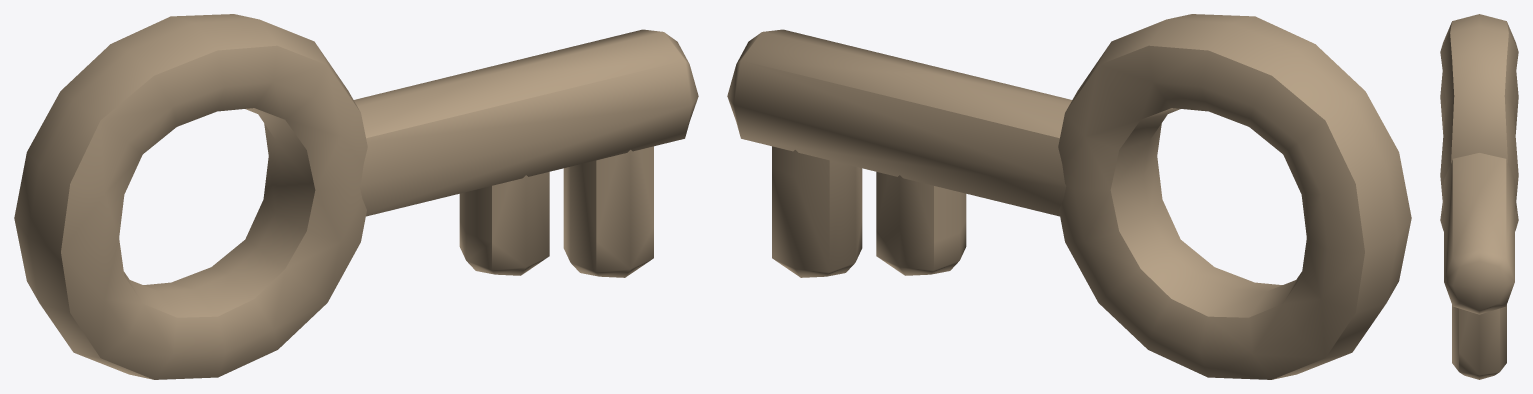
Rendered from quaternius-cube-world-key.glb.
3 views of the same model, side by side, from view 1: azimuth 30°, elevation 25°; view 2: azimuth 150°, elevation 25°; view 3: azimuth 270°, elevation 25° (orthographic). The views are drawn at different scales.
Visible parts, largest first — view 1: Key; view 2: Key; view 3: Key.
Boxes of the visible parts, x1,y1,x2,y2 form: Key: (14,14,698,379); Key: (727,14,1411,379); Key: (1440,14,1518,379).
Size of the model in its own units: 1.93 by 0.9819 by 0.3178.
Materials: 1 (1 with a texture image).
